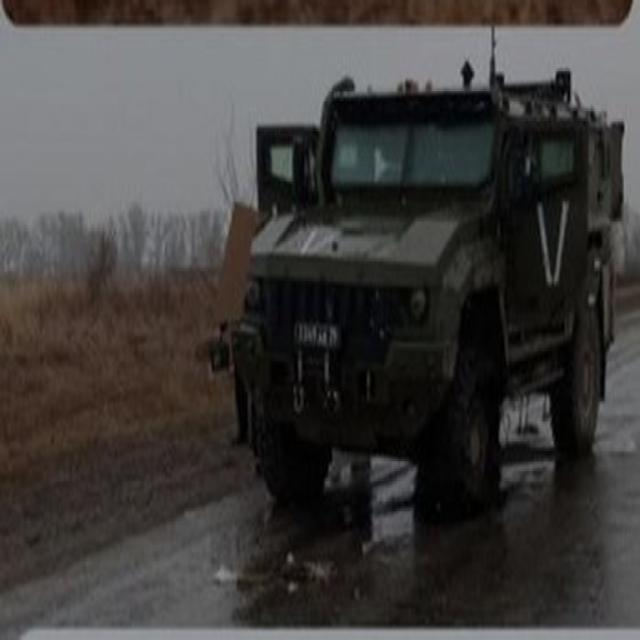CAR: (226, 60, 614, 513)
